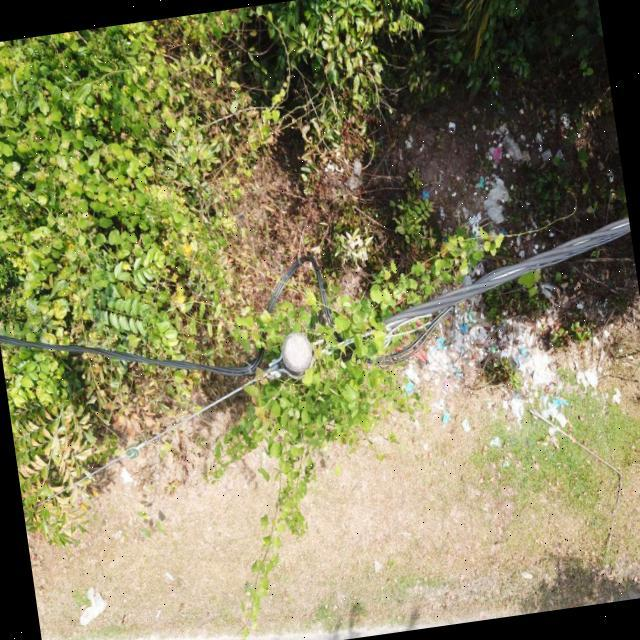critical vegetation: (202, 280, 396, 478)
